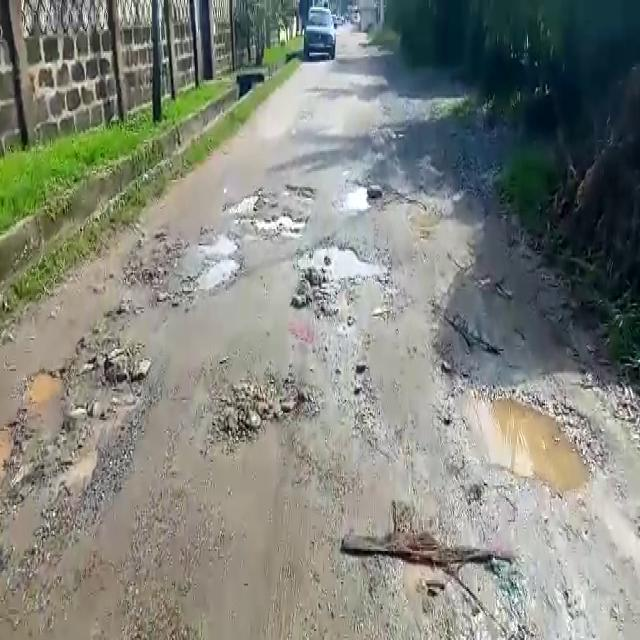Pothole: (454, 386, 596, 500), (292, 240, 393, 282), (241, 210, 313, 237), (26, 362, 65, 408), (192, 255, 241, 290), (343, 180, 384, 212), (195, 224, 239, 252), (0, 428, 18, 486), (226, 195, 263, 218), (283, 181, 321, 198)
